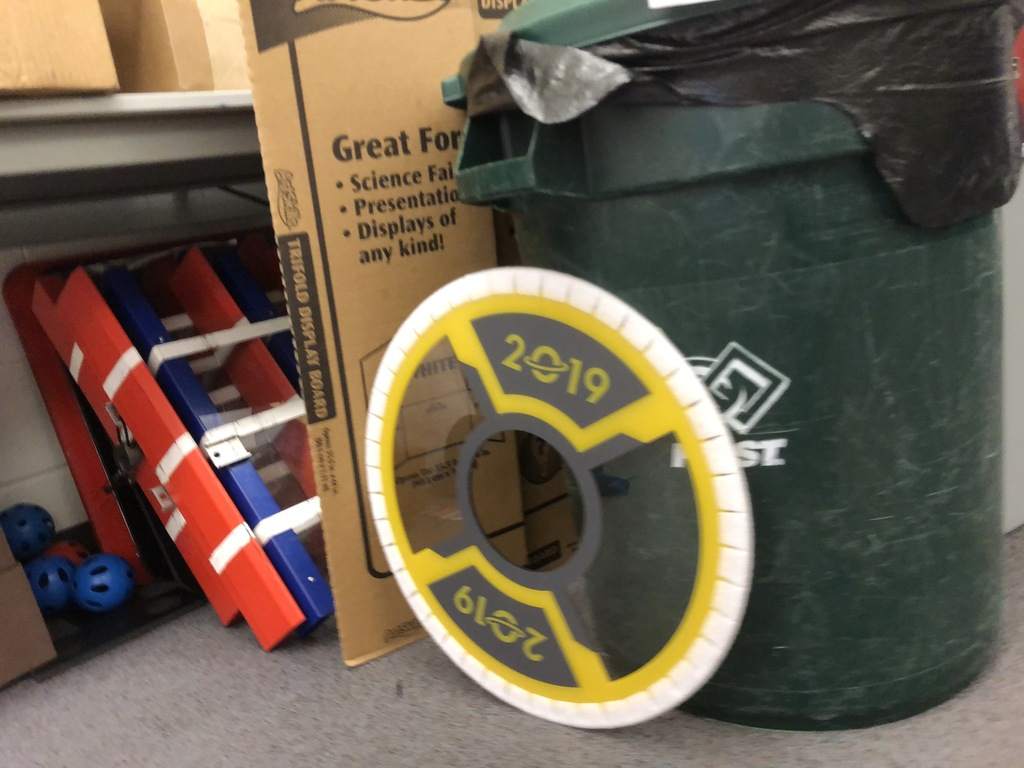hatch_panel: (348, 238, 779, 738)
